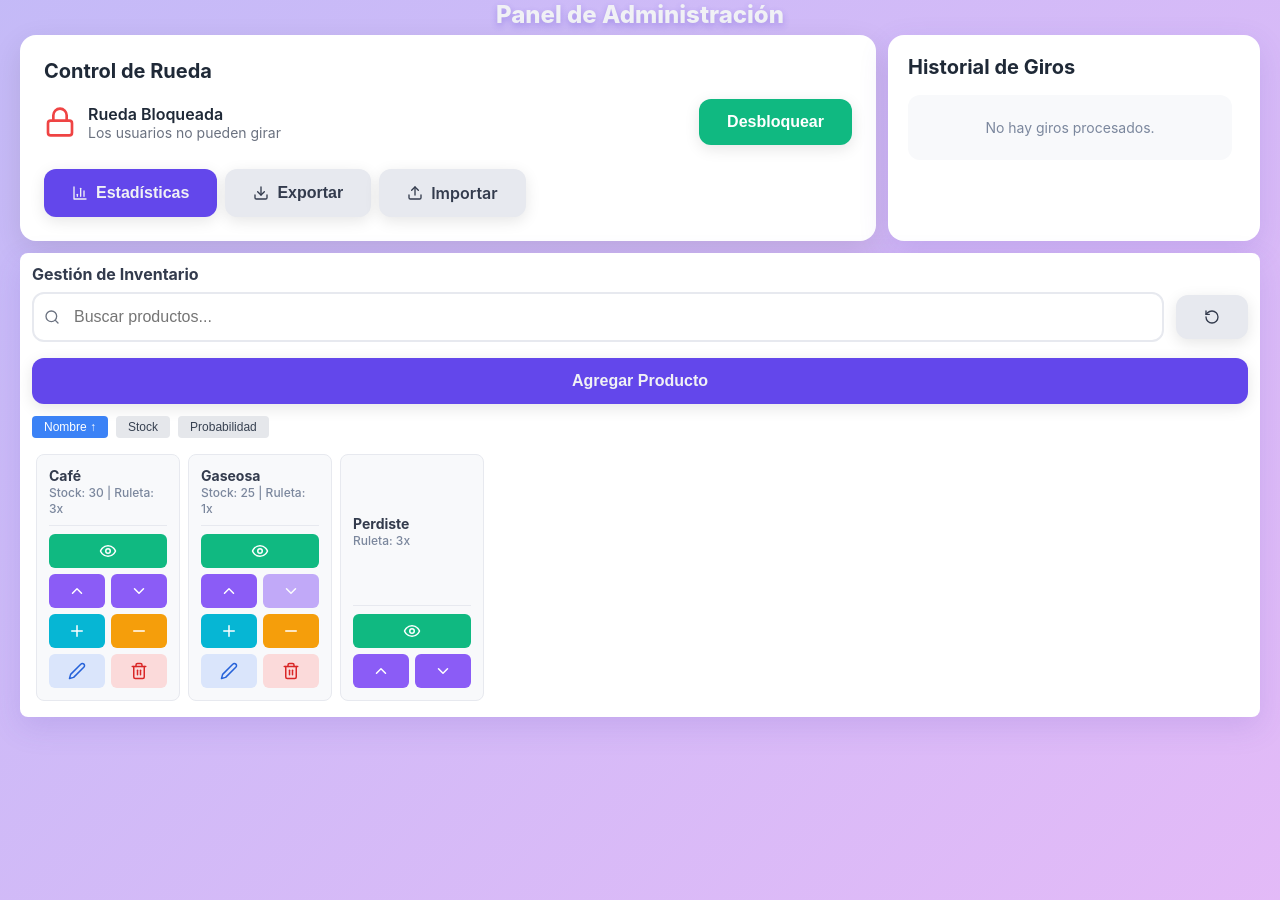
Test: AdminPage › should show delete confirmation modal
Click the button titled "Eliminar producto" below "Stock: 30 | Ruleta: 3x" at {"x": 139, "y": 671}, box 111,654 -> 167,688
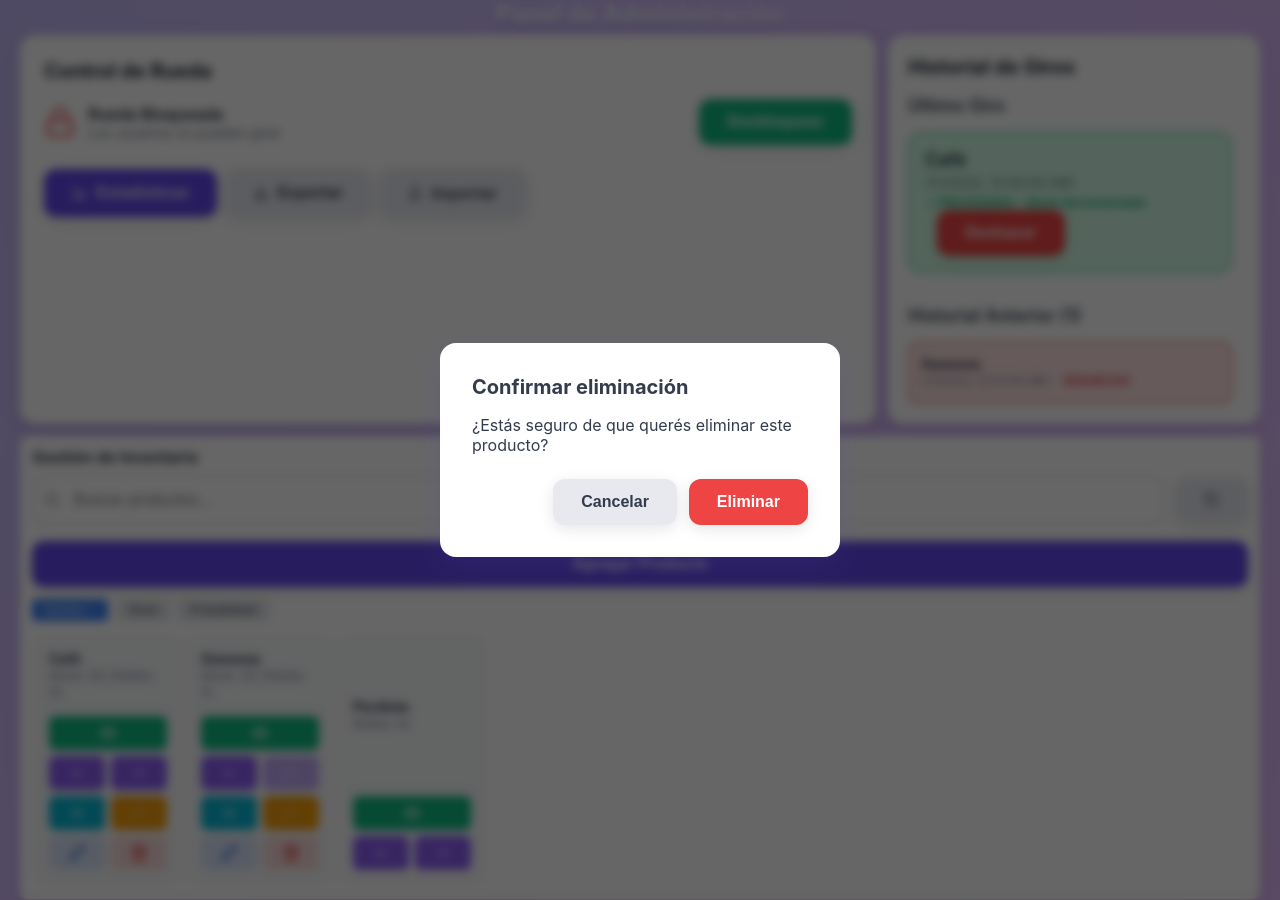
Check: the heading "Confirmar eliminación" is shown, box 472,375 -> 688,399
